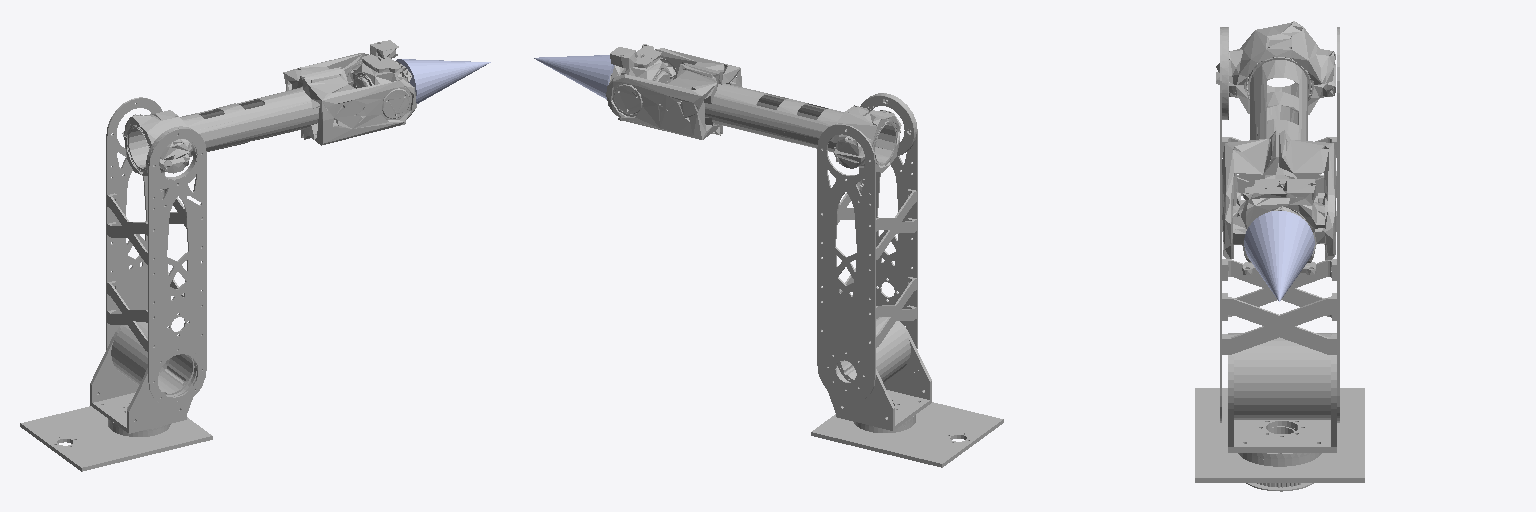
robot.urdf — arm_urdf_v9_2:
<?xml version="1.0" encoding="utf-8"?>
<!-- This URDF was automatically created by SolidWorks to URDF Exporter! Originally created by [author] ([email redacted]) 
     Commit Version: 1.6.0-4-g7f85cfe  Build Version: 1.6.7995.38578
     For more information, please see http://wiki.ros.org/sw_urdf_exporter -->
<robot
  name="arm_urdf_v9_2">
  <link
    name="Link_1">
    <inertial>
      <origin
        xyz="-0.0302848057643456 -4.52393531320816E-06 0.00594957393685053"
        rpy="0 0 0" />
      <mass
        value="0.331828686498201" />
      <inertia
        ixx="0.000808241305721932"
        ixy="-5.80332408276911E-09"
        ixz="-2.03132622568627E-13"
        iyy="0.0011589135097972"
        iyz="-3.01722852067746E-14"
        izz="0.00196229017711011" />
    </inertial>
    <visual>
      <origin
        xyz="0 0 0"
        rpy="0 0 0" />
      <geometry>
        <mesh
          filename="package://arm_urdf_v9_2/meshes/Link_1.STL" />
      </geometry>
      <material
        name="">
        <color
          rgba="0.752941176470588 0.752941176470588 0.752941176470588 1" />
      </material>
    </visual>
    <collision>
      <origin
        xyz="0 0 0"
        rpy="0 0 0" />
      <geometry>
        <mesh
          filename="package://arm_urdf_v9_2/meshes/Link_1.STL" />
      </geometry>
    </collision>
  </link>
  <link
    name="Link_2">
    <inertial>
      <origin
        xyz="0.0103331234002502 -0.000598697363321798 0.0561348578073925"
        rpy="0 0 0" />
      <mass
        value="0.700697516742339" />
      <inertia
        ixx="0.000794953398303812"
        ixy="2.65682382804609E-07"
        ixz="-6.87969215638798E-05"
        iyy="0.0010722375212481"
        iyz="9.66711482538216E-07"
        izz="0.00100538876540219" />
    </inertial>
    <visual>
      <origin
        xyz="0 0 0"
        rpy="0 0 0" />
      <geometry>
        <mesh
          filename="package://arm_urdf_v9_2/meshes/Link_2.STL" />
      </geometry>
      <material
        name="">
        <color
          rgba="0.752941176470588 0.752941176470588 0.752941176470588 1" />
      </material>
    </visual>
    <collision>
      <origin
        xyz="0 0 0"
        rpy="0 0 0" />
      <geometry>
        <mesh
          filename="package://arm_urdf_v9_2/meshes/Link_2.STL" />
      </geometry>
    </collision>
  </link>
  <joint
    name="Joint_1"
    type="continuous">
    <origin
      xyz="0 0 0"
      rpy="0 0 0" />
    <parent
      link="Link_1" />
    <child
      link="Link_2" />
    <axis
      xyz="0 0 1" />
  </joint>
  <link
    name="Link_3">
    <inertial>
      <origin
        xyz="4.0539384169772E-05 0.183553367420109 -0.00386786170467043"
        rpy="0 0 0" />
      <mass
        value="0.31095079206729" />
      <inertia
        ixx="0.00314840932480606"
        ixy="-4.91322058052379E-07"
        ixz="1.978766146141E-08"
        iyy="0.000360935445642347"
        iyz="-1.97773336805726E-08"
        izz="0.00324932031112187" />
    </inertial>
    <visual>
      <origin
        xyz="0 0 0"
        rpy="0 0 0" />
      <geometry>
        <mesh
          filename="package://arm_urdf_v9_2/meshes/Link_3.STL" />
      </geometry>
      <material
        name="">
        <color
          rgba="0.752941176470588 0.752941176470588 0.752941176470588 1" />
      </material>
    </visual>
    <collision>
      <origin
        xyz="0 0 0"
        rpy="0 0 0" />
      <geometry>
        <mesh
          filename="package://arm_urdf_v9_2/meshes/Link_3.STL" />
      </geometry>
    </collision>
  </link>
  <joint
    name="Joint_2"
    type="continuous">
    <origin
      xyz="0.0301172828624044 0 0.105875"
      rpy="1.5707963267949 0 3.14159265358979" />
    <parent
      link="Link_2" />
    <child
      link="Link_3" />
    <axis
      xyz="0 0 1" />
  </joint>
  <link
    name="Link_4">
    <inertial>
      <origin
        xyz="0.00557438195829975 0.00860227020117105 -0.0120087481595836"
        rpy="0 0 0" />
      <mass
        value="0.305527145201257" />
      <inertia
        ixx="0.000425947759414365"
        ixy="-1.24940266811648E-06"
        ixz="-3.02422416047081E-07"
        iyy="0.000443321627216414"
        iyz="-4.443738005066E-07"
        izz="0.000164528775420584" />
    </inertial>
    <visual>
      <origin
        xyz="0 0 0"
        rpy="0 0 0" />
      <geometry>
        <mesh
          filename="package://arm_urdf_v9_2/meshes/Link_4.STL" />
      </geometry>
      <material
        name="">
        <color
          rgba="0.752941176470588 0.752941176470588 0.752941176470588 1" />
      </material>
    </visual>
    <collision>
      <origin
        xyz="0 0 0"
        rpy="0 0 0" />
      <geometry>
        <mesh
          filename="package://arm_urdf_v9_2/meshes/Link_4.STL" />
      </geometry>
    </collision>
  </link>
  <joint
    name="Joint_3"
    type="continuous">
    <origin
      xyz="0 0.359999982970028 0"
      rpy="0 0 0" />
    <parent
      link="Link_3" />
    <child
      link="Link_4" />
    <axis
      xyz="0 0 1" />
  </joint>
  <link
    name="Link_5">
    <inertial>
      <origin
        xyz="-0.000588872362210918 -0.00025741772654353 0.248519524399998"
        rpy="0 0 0" />
      <mass
        value="0.723740513100835" />
      <inertia
        ixx="0.00423996365708531"
        ixy="2.59522448669248E-06"
        ixz="-5.95502798682315E-08"
        iyy="0.00403220796475418"
        iyz="-9.64098940991322E-06"
        izz="0.000802662771149348" />
    </inertial>
    <visual>
      <origin
        xyz="0 0 0"
        rpy="0 0 0" />
      <geometry>
        <mesh
          filename="package://arm_urdf_v9_2/meshes/Link_5.STL" />
      </geometry>
      <material
        name="">
        <color
          rgba="0.752941176470588 0.752941176470588 0.752941176470588 1" />
      </material>
    </visual>
    <collision>
      <origin
        xyz="0 0 0"
        rpy="0 0 0" />
      <geometry>
        <mesh
          filename="package://arm_urdf_v9_2/meshes/Link_5.STL" />
      </geometry>
    </collision>
  </link>
  <joint
    name="Joint_4"
    type="continuous">
    <origin
      xyz="0 0 0"
      rpy="0 -1.5708 0" />
    <parent
      link="Link_4" />
    <child
      link="Link_5" />
    <axis
      xyz="0 0 1" />
  </joint>
  <link
    name="Link_6">
    <inertial>
      <origin
        xyz="-0.00161514898342835 -0.00876433756767303 0.000153212322909019"
        rpy="0 0 0" />
      <mass
        value="0.403145412504842" />
      <inertia
        ixx="0.00033772064266947"
        ixy="-1.19330981234417E-06"
        ixz="-4.39844382668558E-07"
        iyy="0.000325664549256461"
        iyz="3.31424727241275E-06"
        izz="0.000154123851232555" />
    </inertial>
    <visual>
      <origin
        xyz="0 0 0"
        rpy="0 0 0" />
      <geometry>
        <mesh
          filename="package://arm_urdf_v9_2/meshes/Link_6.STL" />
      </geometry>
      <material
        name="">
        <color
          rgba="0.752941176470588 0.752941176470588 0.752941176470588 1" />
      </material>
    </visual>
    <collision>
      <origin
        xyz="0 0 0"
        rpy="0 0 0" />
      <geometry>
        <mesh
          filename="package://arm_urdf_v9_2/meshes/Link_6.STL" />
      </geometry>
    </collision>
  </link>
  <joint
    name="Joint_5"
    type="continuous">
    <origin
      xyz="0 0 0.384"
      rpy="-1.5707963261361 0 -1.56119996703632" />
    <parent
      link="Link_5" />
    <child
      link="Link_6" />
    <axis
      xyz="0 0 1" />
  </joint>
  <link
    name="end_effector">
    <inertial>
      <origin
        xyz="-1.38777878078145E-17 -7.84687981258969E-09 -0.1143"
        rpy="0 0 0" />
      <mass
        value="0.231666659443376" />
      <inertia
        ixx="0.000252217229635949"
        ixy="-1.29759607577717E-27"
        ixz="-1.89011728495575E-20"
        iyy="0.000252217229635949"
        iyz="-1.03890723499557E-11"
        izz="0.000100886891854381" />
    </inertial>
    <visual>
      <origin
        xyz="0 0 0"
        rpy="0 0 0" />
      <geometry>
        <mesh
          filename="package://arm_urdf_v9_2/meshes/end_effector.STL" />
      </geometry>
      <material
        name="">
        <color
          rgba="0.792156862745098 0.819607843137255 0.933333333333333 1" />
      </material>
    </visual>
    <collision>
      <origin
        xyz="0 0 0"
        rpy="0 0 0" />
      <geometry>
        <mesh
          filename="package://arm_urdf_v9_2/meshes/end_effector.STL" />
      </geometry>
    </collision>
  </link>
  <joint
    name="Joint_6"
    type="fixed">
    <origin
      xyz="0 -0.199188209956366 -0.000601864300433158"
      rpy="1.5707963267949 -1.56119996703631 0" />
    <parent
      link="Link_6" />
    <child
      link="end_effector" />
    <axis
      xyz="0 0 0" />
  </joint>
</robot>

--- What the picture shows (computed from the rendered views, not written in the file) ---
Views: 3 orthographic renders of the robot side by side, from view 1: azimuth 30°, elevation 25°; view 2: azimuth 150°, elevation 25°; view 3: azimuth 270°, elevation 25°.
Robot: arm_urdf_v9_2 — 7 links, 6 joints (5 continuous, 1 fixed); root link Link_1; default pose: every joint at zero.
Links seen in each view (by area): view 1: Link_3, Link_5, Link_2, Link_1, Link_6, Link_4, end_effector; view 2: Link_3, Link_5, Link_1, Link_2, Link_6, Link_4, end_effector; view 3: Link_2, Link_5, Link_3, Link_1, Link_4, end_effector, Link_6.
Link boxes in pixels (<box>): Link_3: <box>106,97,206,406</box>; Link_5: <box>129,53,416,167</box>; Link_2: <box>90,321,196,433</box>; Link_1: <box>20,406,212,471</box>; Link_6: <box>348,40,411,125</box>; Link_4: <box>122,110,191,175</box>; end_effector: <box>396,59,490,103</box>; Link_3: <box>817,93,917,402</box>; Link_5: <box>606,48,895,163</box>; Link_1: <box>811,402,1003,467</box>; Link_2: <box>827,317,931,430</box>; Link_6: <box>609,44,675,120</box>; Link_4: <box>833,105,901,172</box>; end_effector: <box>534,55,614,99</box>; Link_2: <box>1228,333,1336,491</box>; Link_5: <box>1222,60,1335,259</box>; Link_3: <box>1220,27,1339,422</box>; Link_1: <box>1195,388,1364,482</box>; Link_4: <box>1216,21,1335,114</box>; end_effector: <box>1244,211,1314,301</box>; Link_6: <box>1233,179,1324,274</box>.
Bounding box of the posed robot: 0.7669 × 0.1841 × 0.5495 m (x, y, z).
Meshes: 7 distinct files referenced, 7 mesh visuals loaded (7 binary STL).